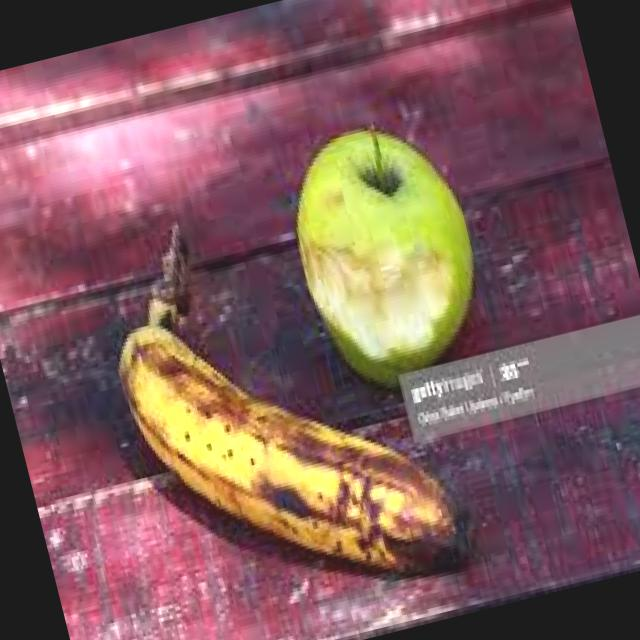organic: (77, 88, 544, 607)
